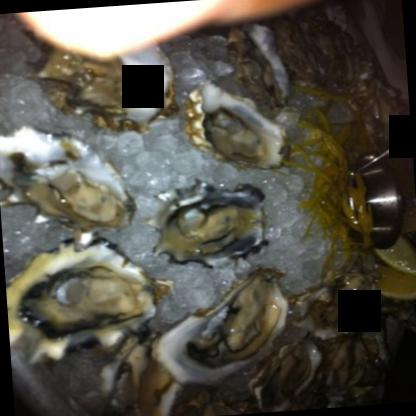oyster: (129, 271, 288, 396), (3, 245, 160, 354), (0, 122, 132, 238), (176, 80, 294, 172), (155, 186, 266, 264)
